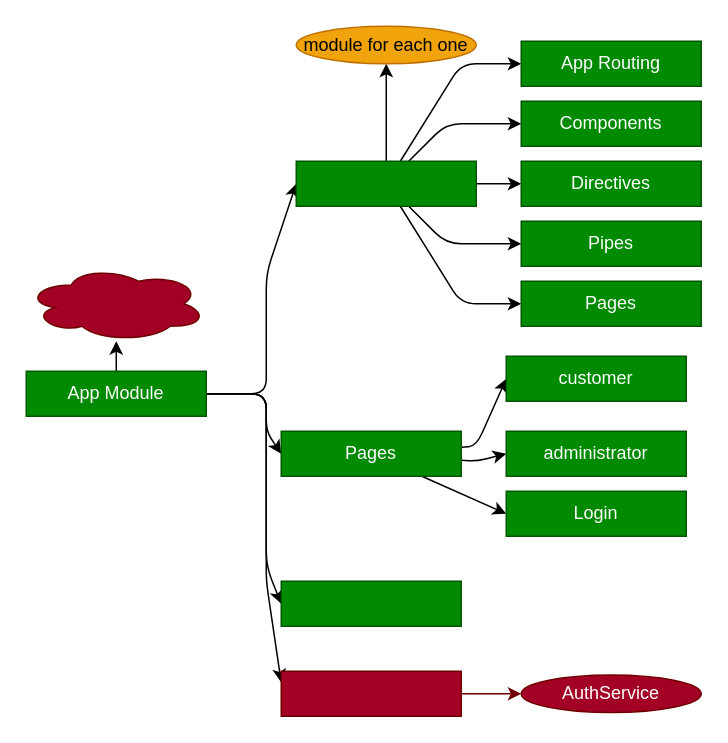
Image size: 728x743. Some labels were removed from this diagram. Each missing label, with the centre of its shape:
funko shop: (x=115, y=303)
Guardian: (x=370, y=603)
Modules: (x=385, y=183)
Services: (x=370, y=693)
